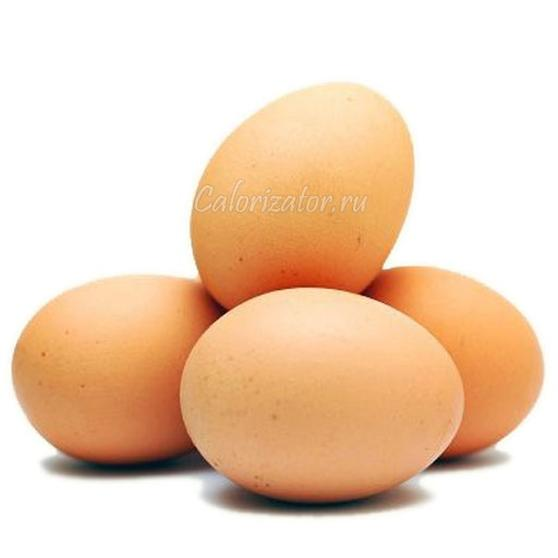egg: (184, 288, 463, 511), (190, 76, 414, 294)
